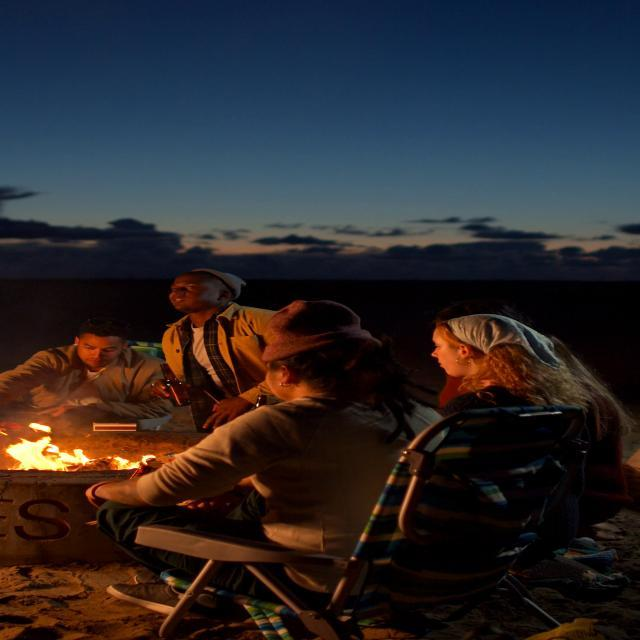Fire: (0, 430, 148, 472)
